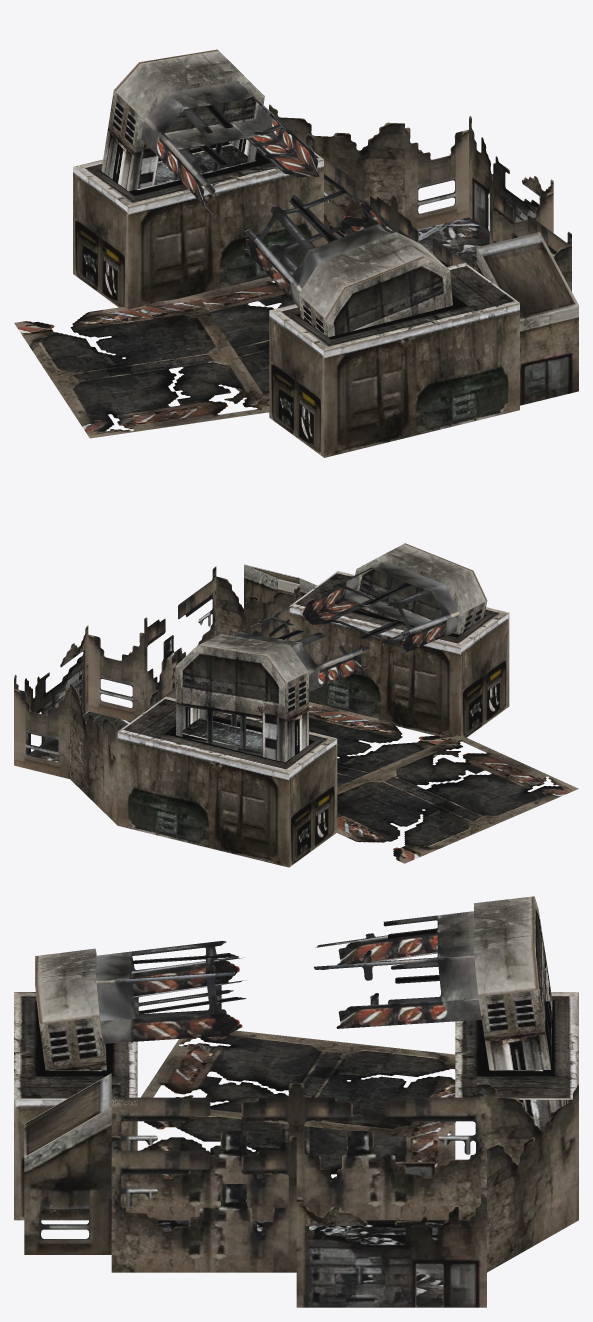
Rendered from repairbay_dam_hdtex.glb.
3 renders of one model, top to bottom at view 1: azimuth 30°, elevation 25°; view 2: azimuth 150°, elevation 25°; view 3: azimuth 270°, elevation 25°, orthographic. The views are drawn at different scales.
Parts seen in each view (by area): view 1: RepairBay Damaged, gantry, floors; view 2: RepairBay Damaged, gantry, floors; view 3: RepairBay Damaged, gantry, floors.
Part boxes in pixels (x1,y1,x2,y2): RepairBay Damaged: [73, 104, 578, 457]; gantry: [101, 49, 452, 337]; floors: [14, 271, 294, 438]; RepairBay Damaged: [14, 564, 509, 867]; gantry: [175, 543, 487, 762]; floors: [259, 702, 578, 863]; RepairBay Damaged: [14, 992, 578, 1307]; gantry: [35, 896, 567, 1130]; floors: [140, 1030, 455, 1178].
Size of the model in its own units: 22.87 by 9.27 by 19.42.
Materials: 2 (2 with a texture image).
